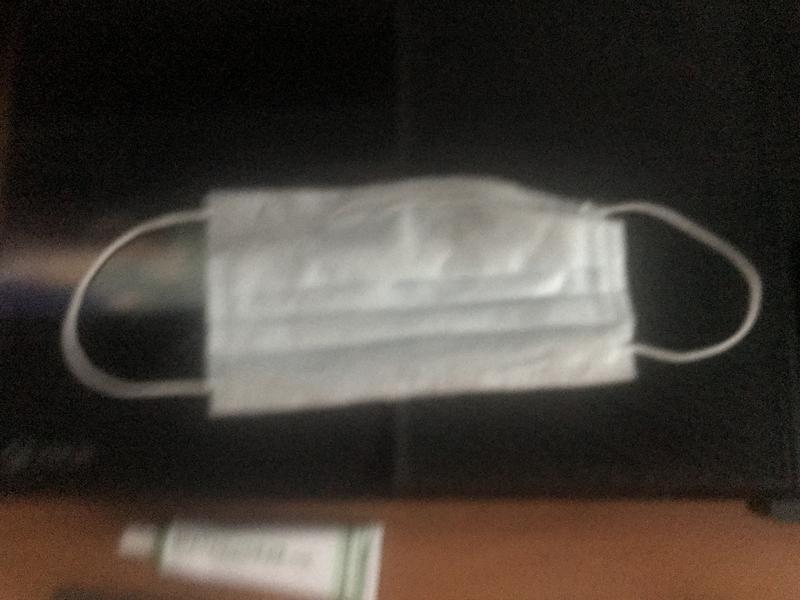medical_mask: (64, 179, 763, 415)
